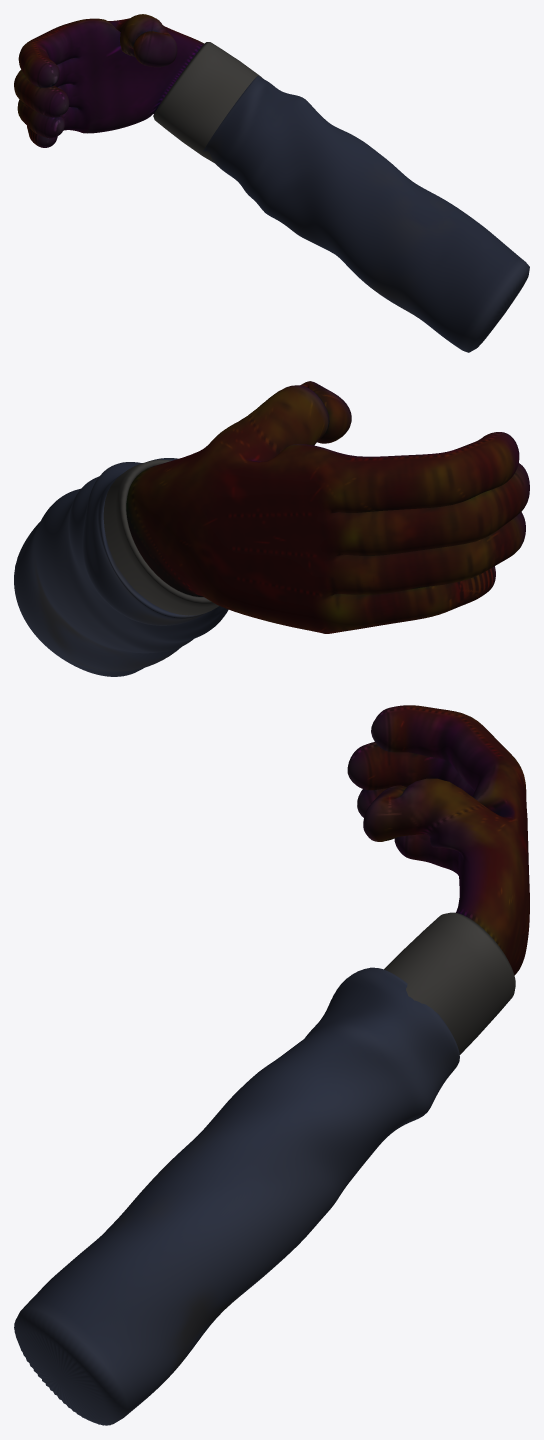
File: fp_hand_R_wide.glb
3 renders of one model, top to bottom at view 1: azimuth 30°, elevation 25°; view 2: azimuth 150°, elevation 25°; view 3: azimuth 270°, elevation 25°, orthographic. The views are drawn at different scales.
Parts seen in each view (by area): view 1: fp_hand_R_wide; view 2: fp_hand_R_wide; view 3: fp_hand_R_wide.
Boxes of the visible parts, <box> form: fp_hand_R_wide: <box>14,14,529,352</box>; fp_hand_R_wide: <box>14,381,529,676</box>; fp_hand_R_wide: <box>14,705,529,1425</box>.
Bounding box in the file's own units: 0.3385 × 0.2474 × 0.2434.
3 materials, 1 textured.
